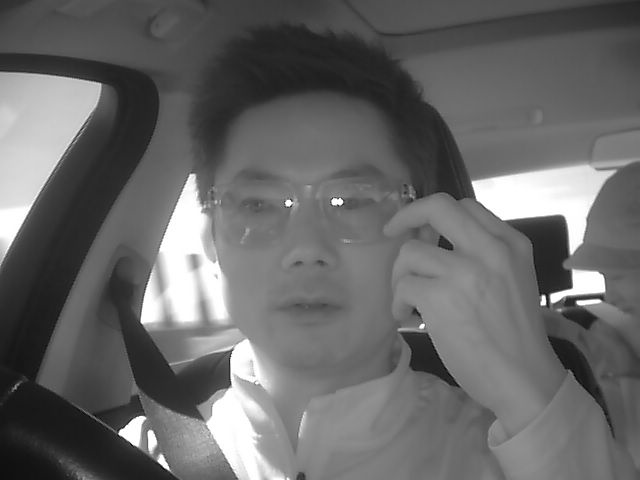hand: (385, 188, 553, 419)
